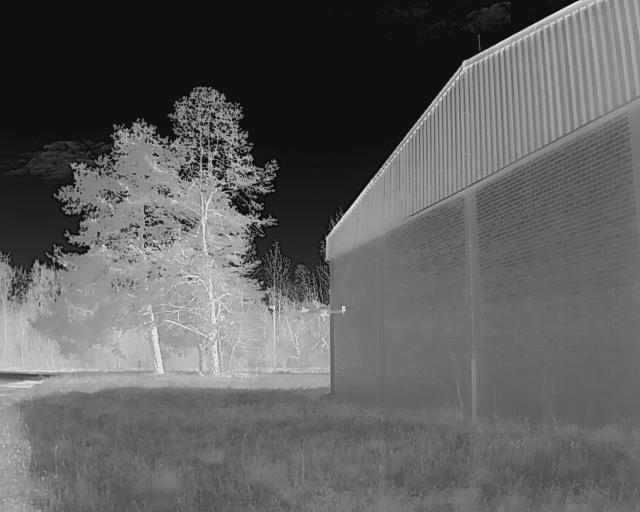drone: (289, 298, 356, 330)
